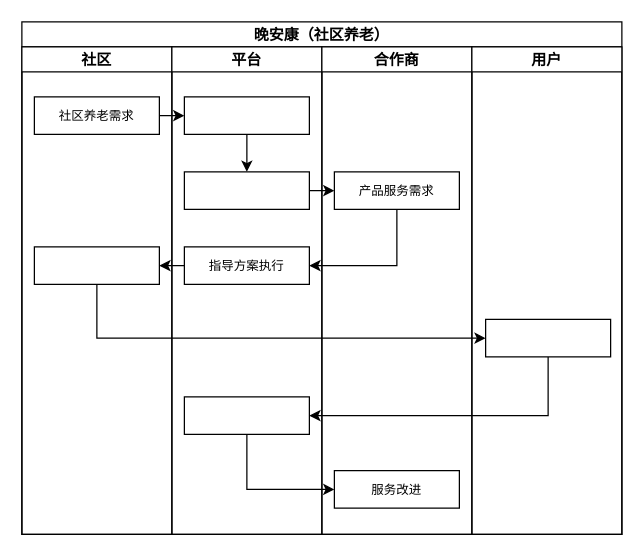
Image size: 644x556. Some labels were removed from this diagram. The centre of each missing label's shape, as x and y in pixels:
"优化方案" belongs at pixel 246 415.
"平台咨询" belongs at pixel 246 115.
"执行方案" belongs at pixel 96 265.
"服务评价" belongs at pixel 547 337.
"确立社区养老方案" belongs at pixel 246 190.
